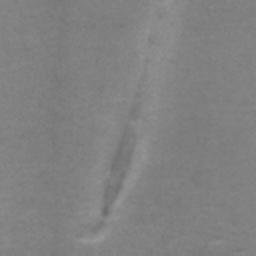Finishing roll printing: (100, 56, 152, 218), (72, 219, 109, 242)
